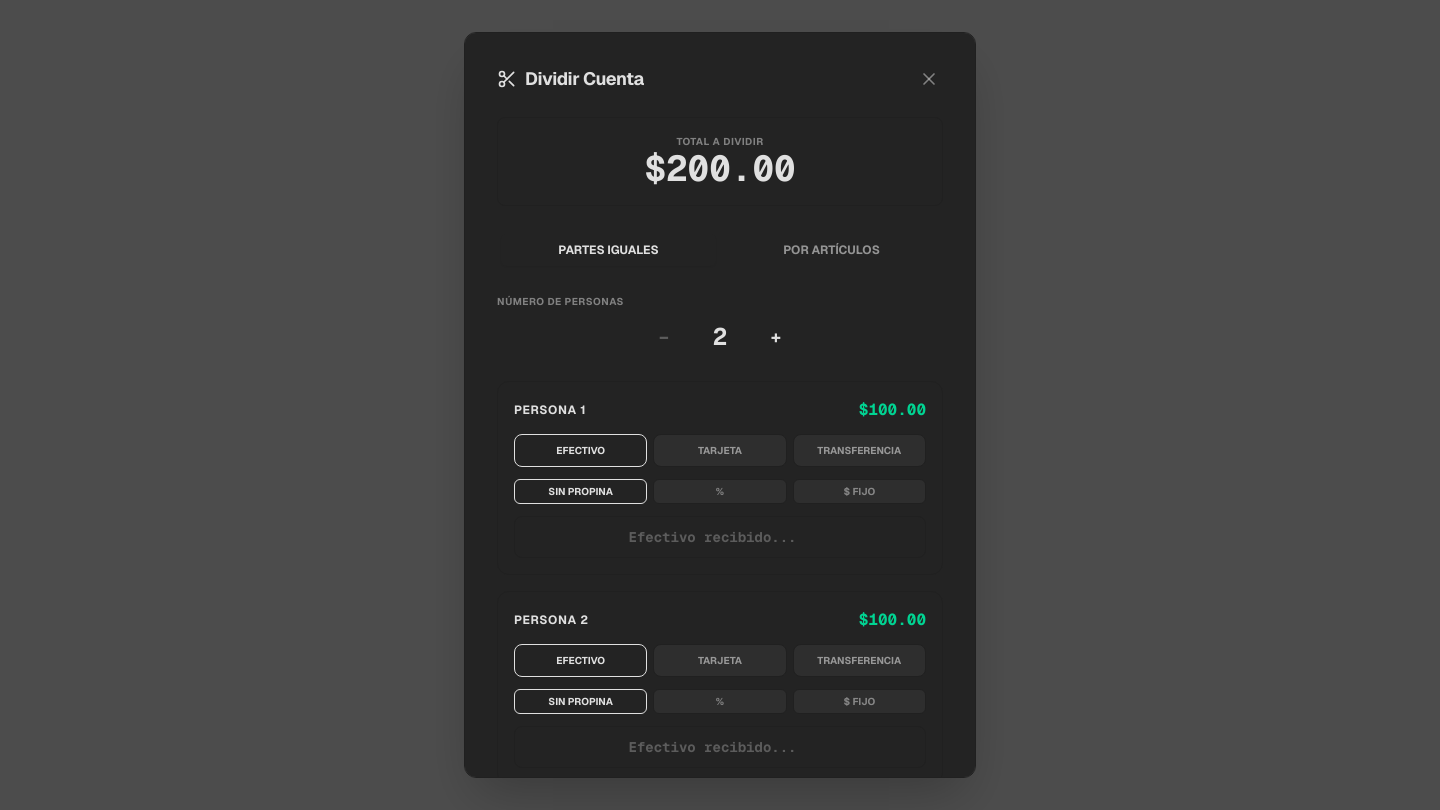
Scenario: SplitBillModal Component › hides explicit tip amount and shows 'Total a pagar' for Waiter
This screenshot has width=1440, height=810.
# Click % tip for persona 1
Click the 1st button "%".
click(720, 492)  # box x1=653 y1=479 x2=787 y2=504
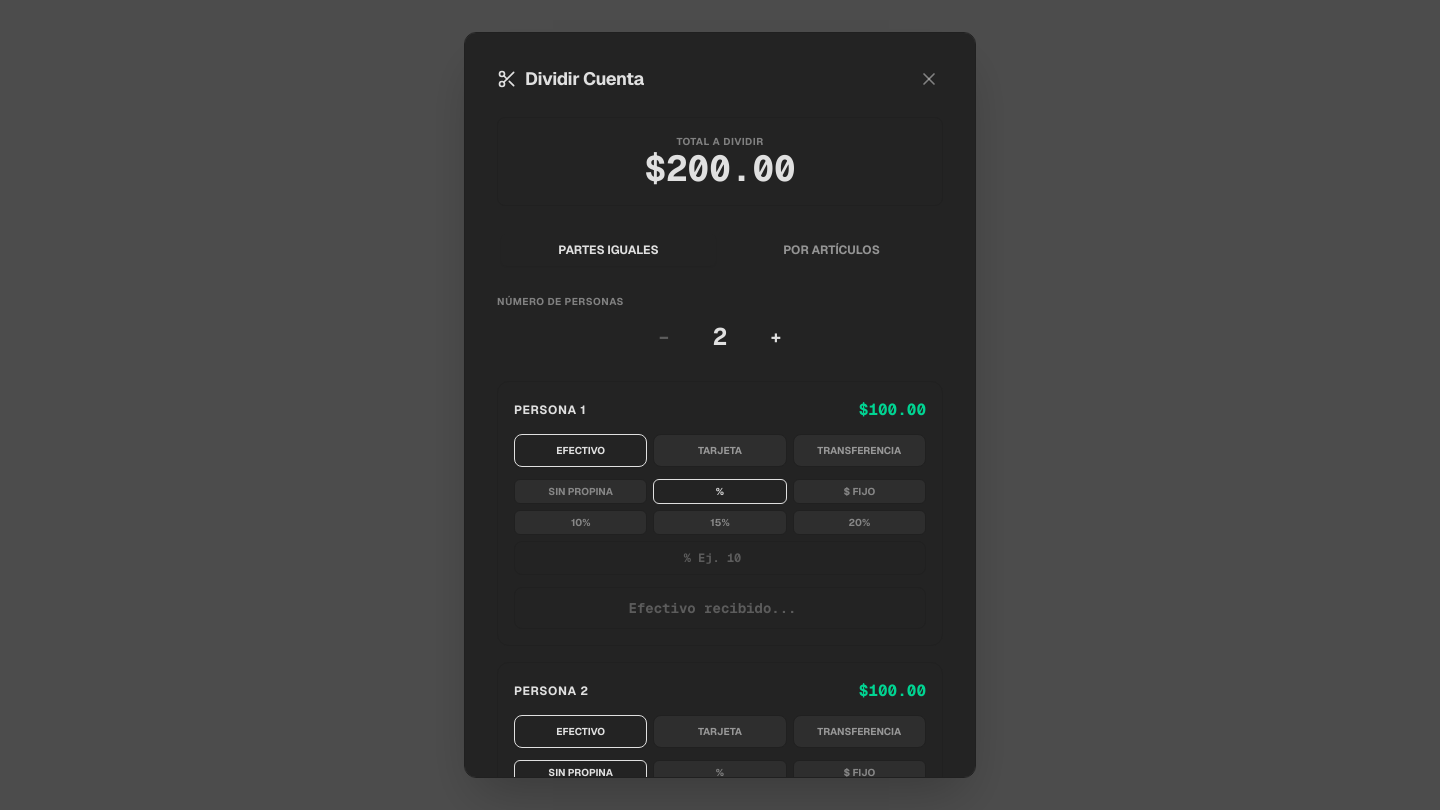
# Click 10% preset
Click the button "10%".
click(581, 523)  # box x1=514 y1=510 x2=647 y2=535
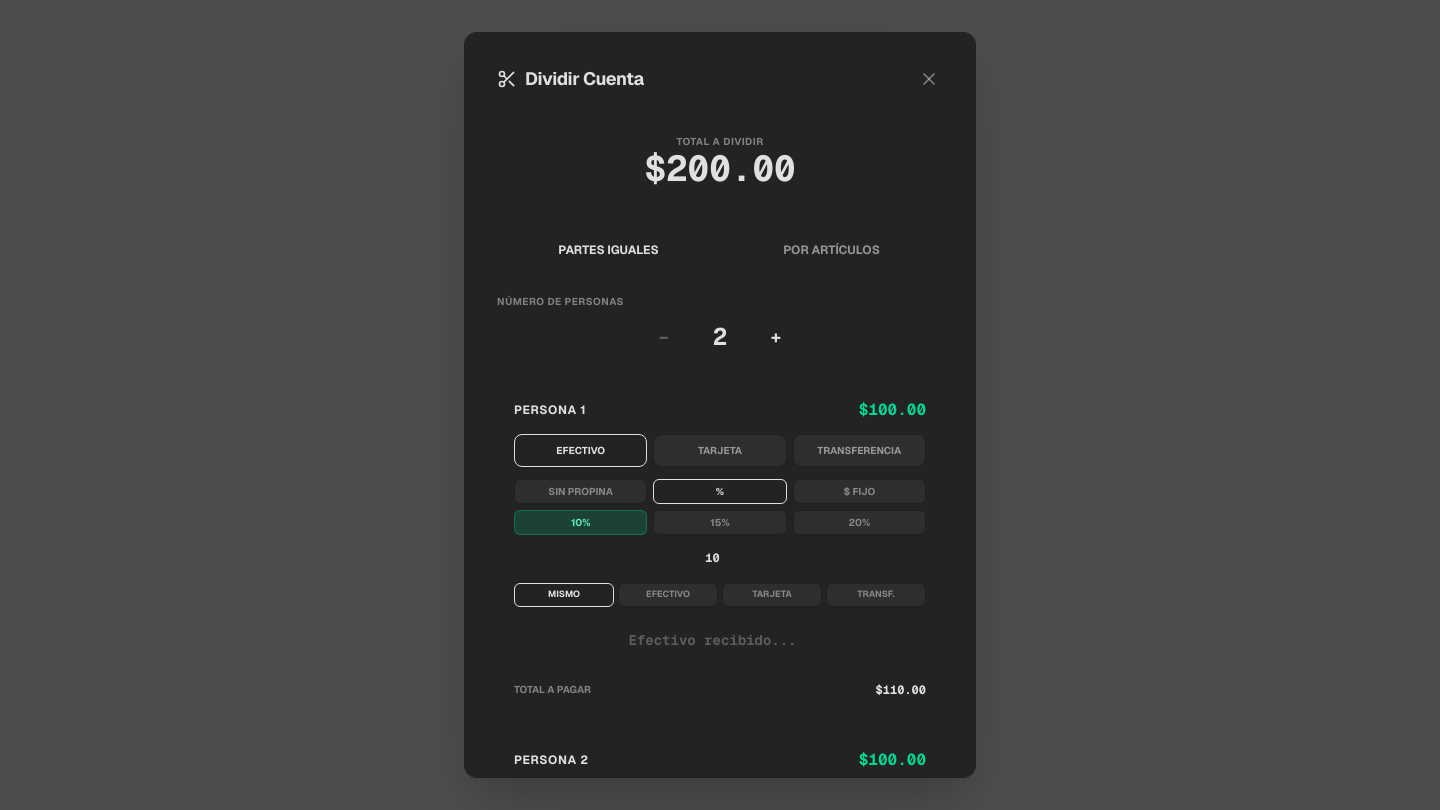
Expected: the text "Total a pagar" is shown, x1=514 y1=682 x2=591 y2=697
Expected: the text "$110.00" is shown, x1=876 y1=682 x2=926 y2=698
